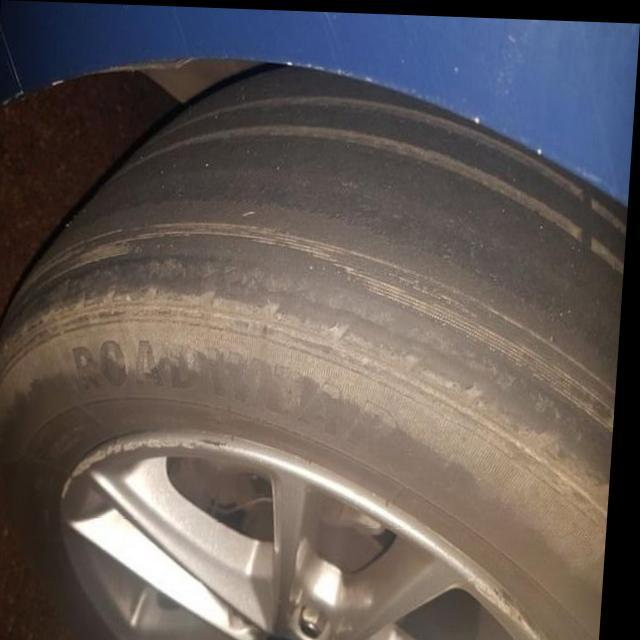Flat spots: (152, 127, 515, 313)
